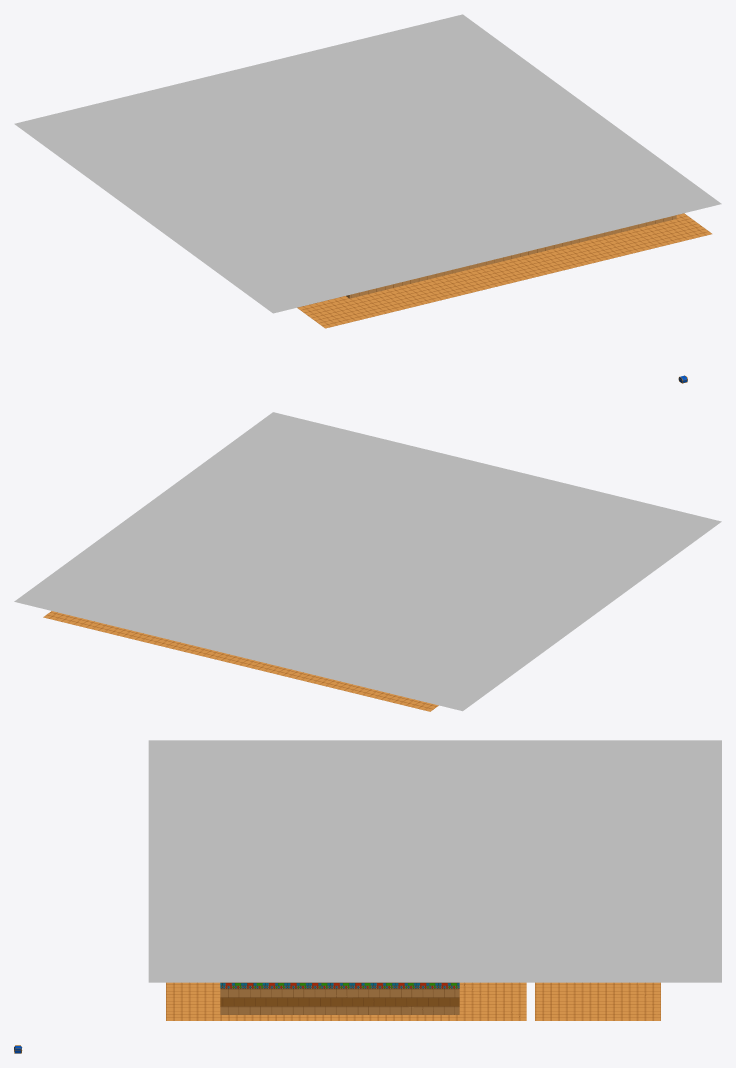
The model's file is tombMap.obj.
3 views of the same model, one above another, from view 1: azimuth 30°, elevation 25°; view 2: azimuth 150°, elevation 25°; view 3: azimuth 270°, elevation 25° (orthographic). The views are drawn at different scales.
Visible parts, largest first — view 1: Plane.001_Plane.002, Plane.002_Plane.001; view 2: Plane.001_Plane.002, Plane.002_Plane.001; view 3: Plane.001_Plane.002, Plane.002_Plane.001.
Part boxes in pixels (<box>): Plane.001_Plane.002: <box>14,14,721,313</box>; Plane.002_Plane.001: <box>297,213,711,328</box>; Plane.001_Plane.002: <box>14,412,721,711</box>; Plane.002_Plane.001: <box>43,611,438,711</box>; Plane.001_Plane.002: <box>148,740,721,982</box>; Plane.002_Plane.001: <box>166,982,660,1020</box>.
Bounding box in the file's own units: 165 × 38.84 × 203.
Materials: 5 (2 with a texture image).
